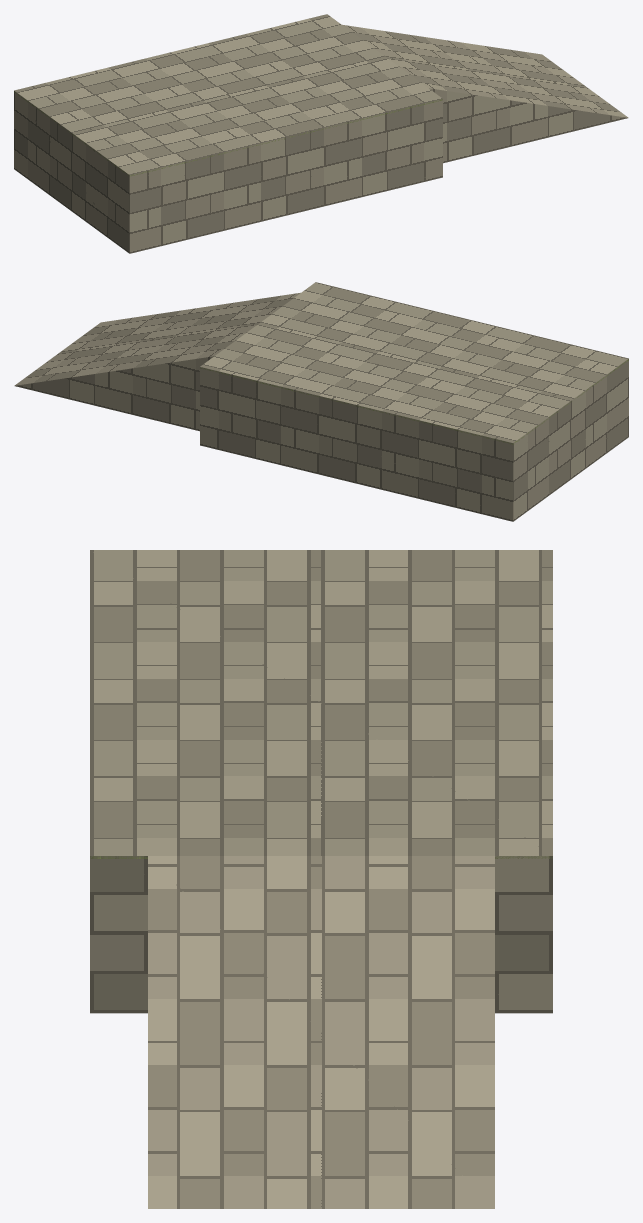
The model's file is garden.glb.
The picture shows the model from 3 angles, top to bottom: view 1: azimuth 30°, elevation 25°; view 2: azimuth 150°, elevation 25°; view 3: azimuth 270°, elevation 25°; orthographic projection. The views are drawn at different scales.
Parts seen in each view (by area): view 1: village_garden; view 2: village_garden; view 3: village_garden.
Part boxes in pixels (bbox=[...]): village_garden: bbox=[14, 14, 628, 253]; village_garden: bbox=[14, 282, 628, 521]; village_garden: bbox=[90, 550, 552, 1208].
Size of the model in its own units: 164 by 24 by 64.
Materials: 2 (2 with a texture image).
